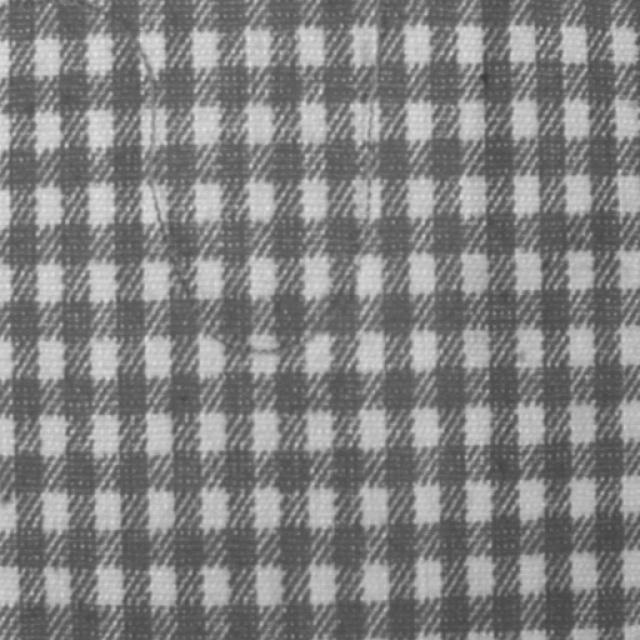Foreign-Body-Defect: (64, 4, 385, 376)
